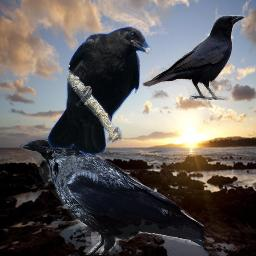Crow: (19, 133, 204, 255), (47, 26, 152, 156), (142, 15, 245, 100)
